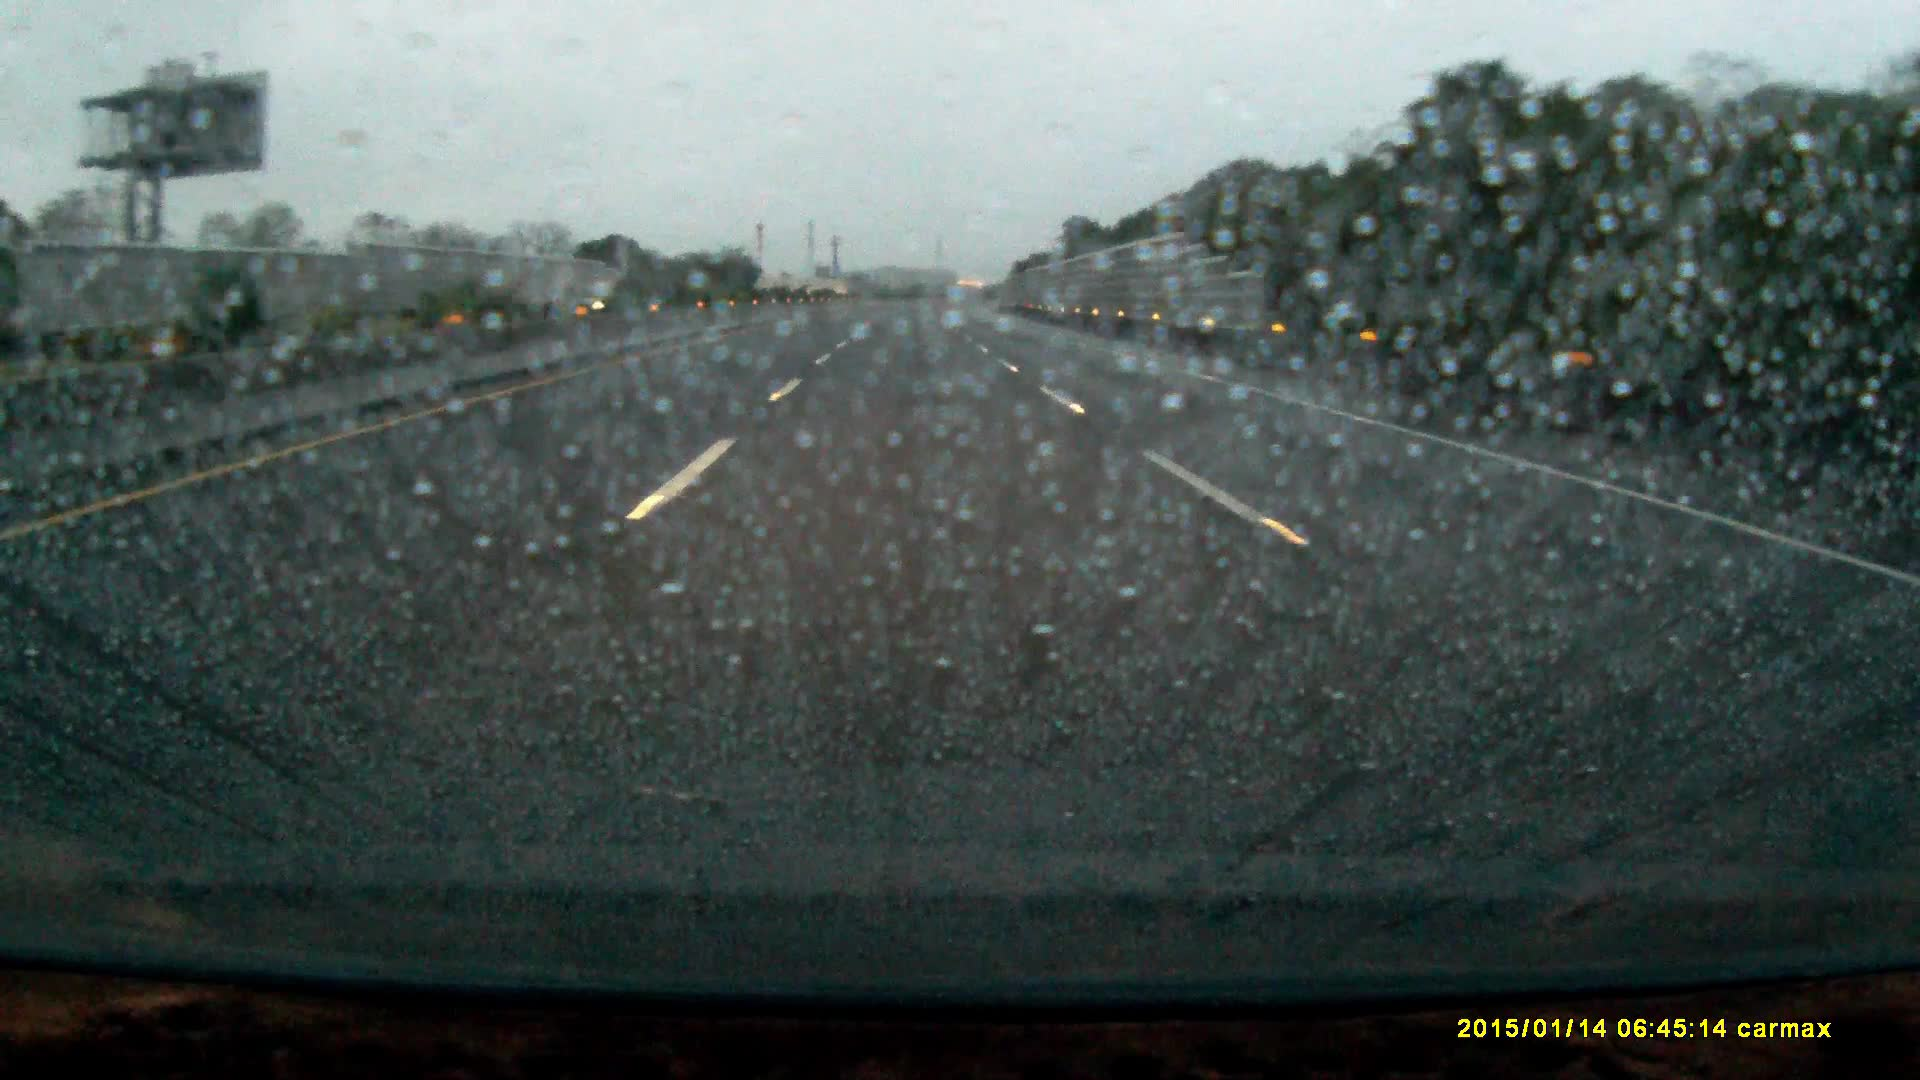vehicle: (563, 282, 624, 310)
